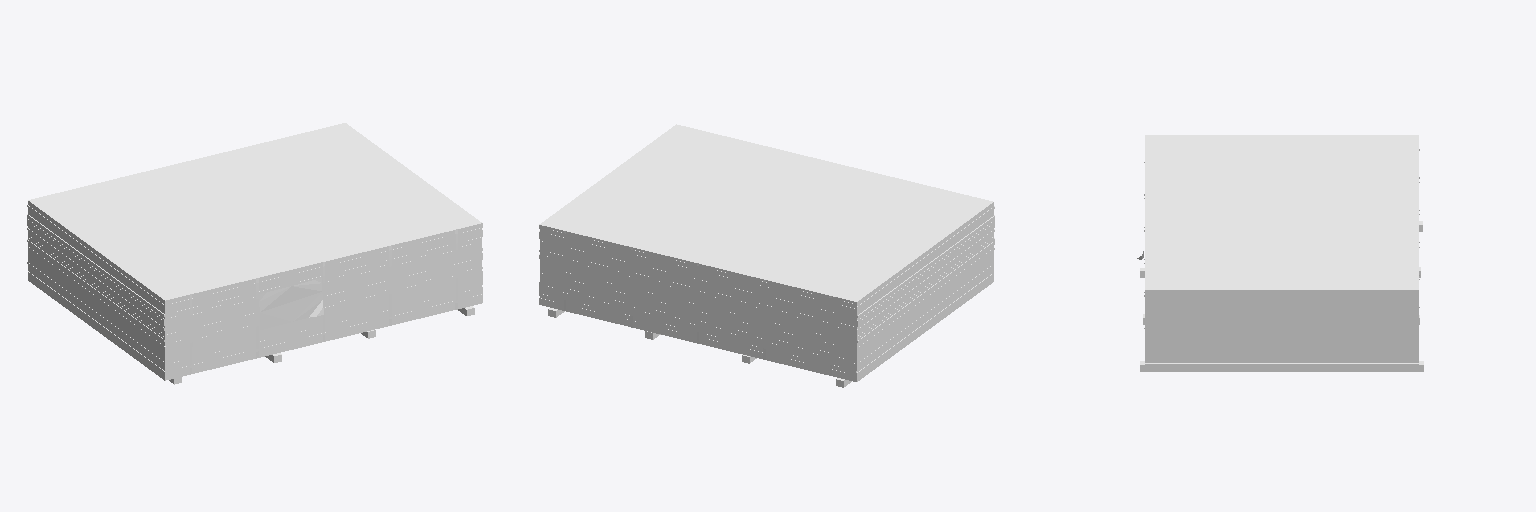
Rendered from PalletPlywoodNew_GameReady.obj.
3 views of the same model, side by side, from view 1: azimuth 30°, elevation 25°; view 2: azimuth 150°, elevation 25°; view 3: azimuth 270°, elevation 25° (orthographic).
Parts seen in each view (by area): view 1: PalletPlywoodNew_GameReady; view 2: PalletPlywoodNew_GameReady; view 3: PalletPlywoodNew_GameReady.
Part boxes in pixels (bbox=[...]): PalletPlywoodNew_GameReady: bbox=[27, 123, 482, 384]; PalletPlywoodNew_GameReady: bbox=[539, 124, 994, 387]; PalletPlywoodNew_GameReady: bbox=[1137, 135, 1423, 371].
Bounding box in the file's own units: 201 × 52.42 × 157.